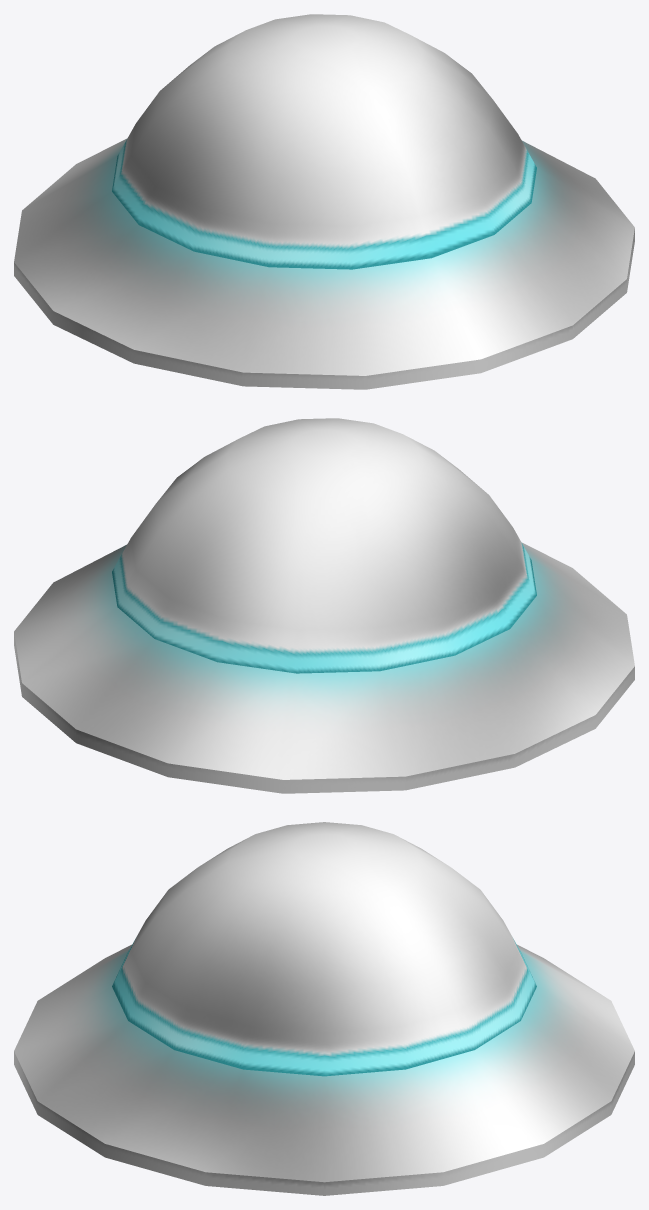
File: ufo.FBX
3 views of the same model, one above another, from view 1: azimuth 30°, elevation 25°; view 2: azimuth 150°, elevation 25°; view 3: azimuth 270°, elevation 25° (orthographic).
Visible parts, largest first — view 1: ufo; view 2: ufo; view 3: ufo.
Part boxes in pixels (left/top/right/bottom): ufo: left=14, top=14, right=634, bottom=389; ufo: left=14, top=418, right=634, bottom=793; ufo: left=14, top=822, right=634, bottom=1195.
Bounding box in the file's own units: 60.36 × 32.08 × 60.36.
